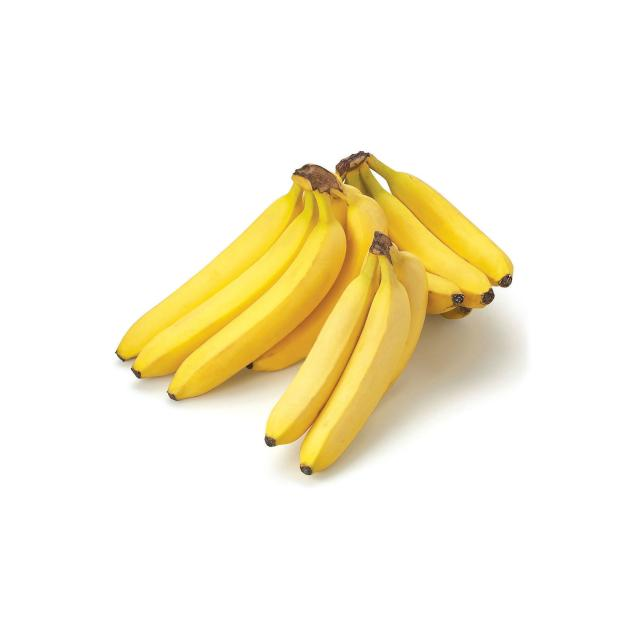Banana: (168, 190, 346, 399), (132, 192, 319, 378), (116, 185, 302, 361), (251, 186, 388, 371), (300, 255, 411, 473), (265, 254, 380, 446), (359, 164, 494, 309), (365, 155, 514, 286), (389, 244, 429, 387), (426, 271, 465, 313)
